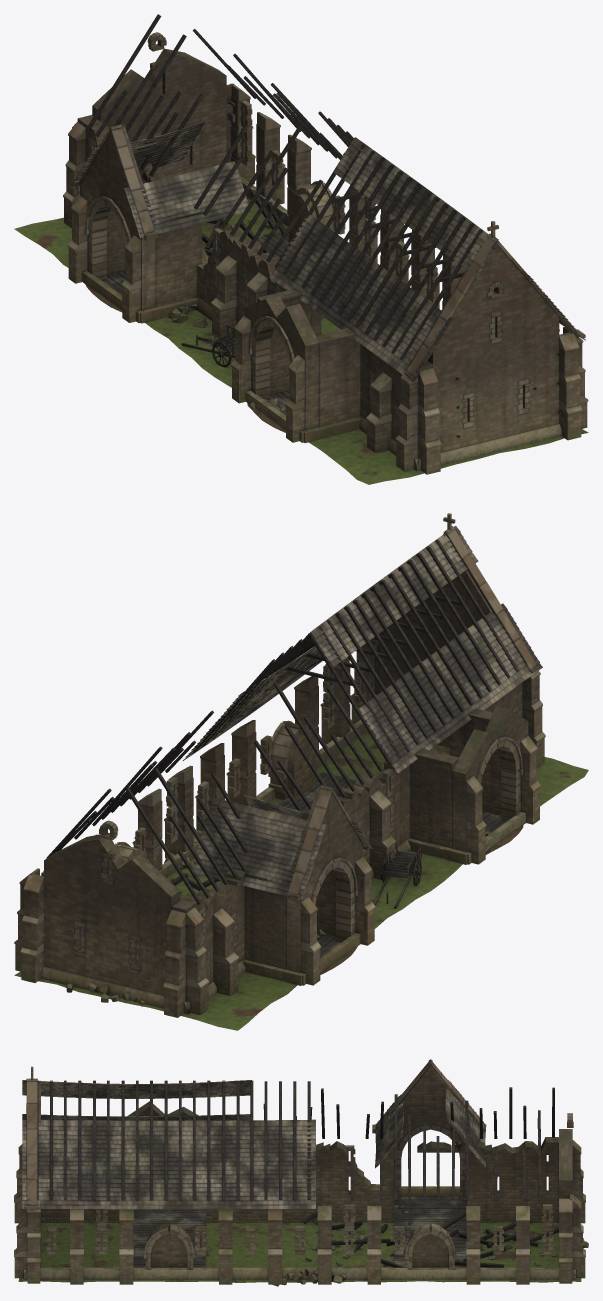
Rendered from tithe_barn_ruin.glb.
3 renders of one model, top to bottom at view 1: azimuth 30°, elevation 25°; view 2: azimuth 150°, elevation 25°; view 3: azimuth 270°, elevation 25°, orthographic. The views are drawn at different scales.
Parts seen in each view (by area): view 1: tithe_barn_ruin_LOD0; view 2: tithe_barn_ruin_LOD0; view 3: tithe_barn_ruin_LOD0.
Boxes of the visible parts, x1,y1,x2,y2 form: tithe_barn_ruin_LOD0: [14, 14, 588, 484]; tithe_barn_ruin_LOD0: [14, 513, 588, 1030]; tithe_barn_ruin_LOD0: [14, 1059, 588, 1286].
Size of what is drawn, in the model's own units: 13.93 by 12.76 by 36.07.
1 material, 1 textured.
